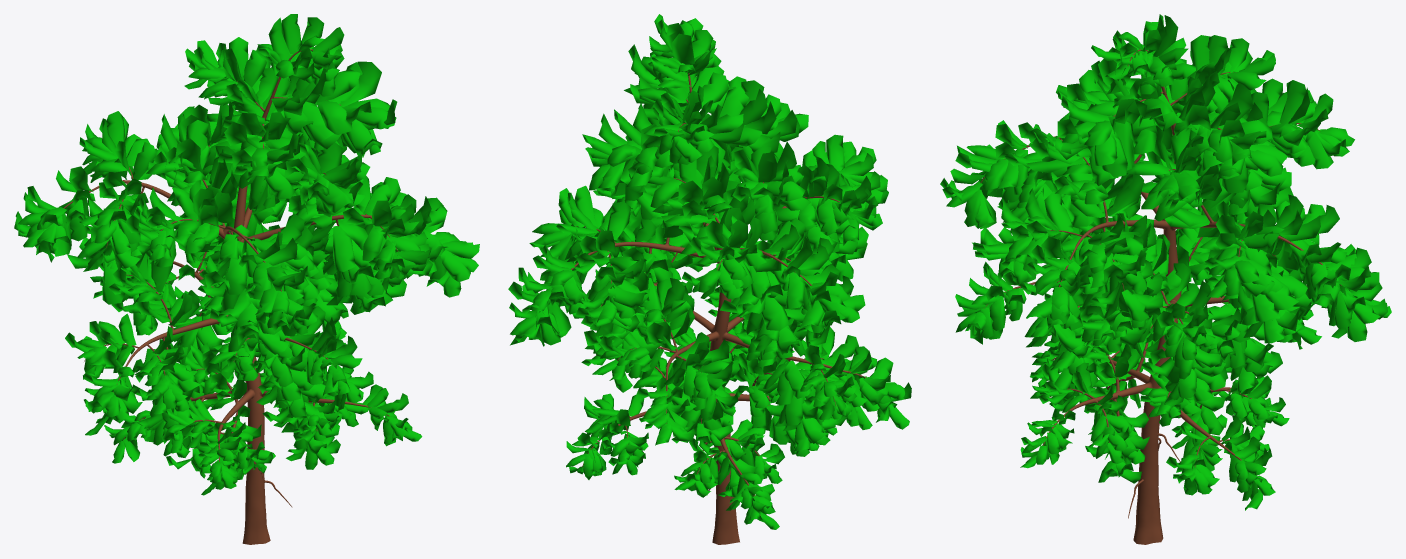
Rendered from Tree.fbx.
The picture shows the model from 3 angles, left to right: view 1: azimuth 30°, elevation 25°; view 2: azimuth 150°, elevation 25°; view 3: azimuth 270°, elevation 25°; orthographic projection. The views are drawn at different scales.
Parts seen in each view (by area): view 1: Pine_Tree; view 2: Pine_Tree; view 3: Pine_Tree.
Boxes of the visible parts, x1,y1,x2,y2 form: Pine_Tree: (14,14,479,544); Pine_Tree: (508,14,911,544); Pine_Tree: (940,14,1391,544).
Size of the model in its own units: 883 by 1207 by 905.
